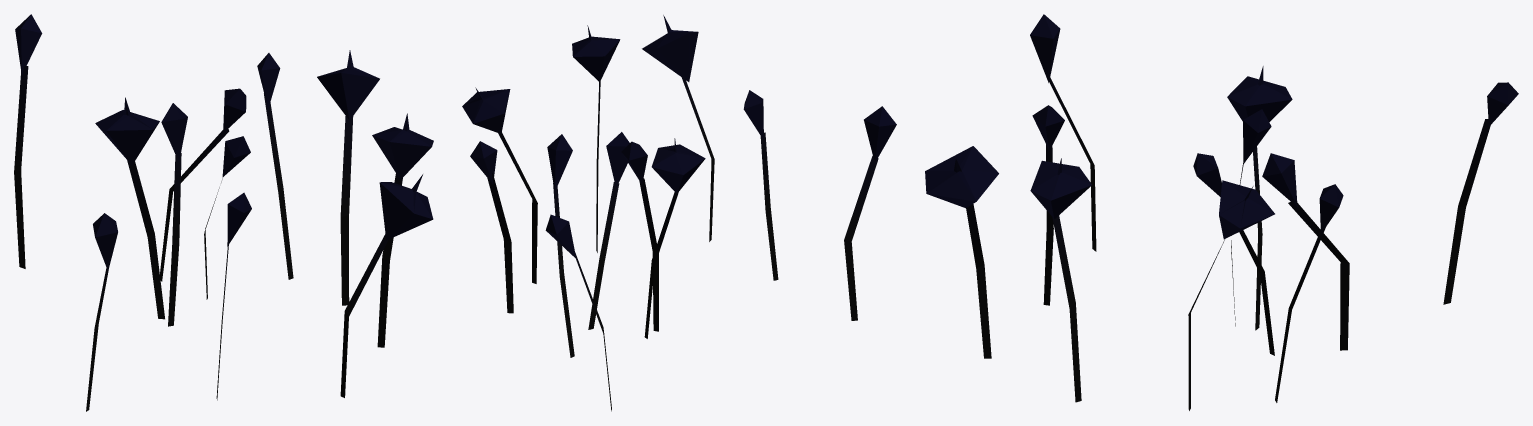
Rendered from PatchTulip02.fbx.
3 renders of one model, left to right at view 1: azimuth 30°, elevation 25°; view 2: azimuth 150°, elevation 25°; view 3: azimuth 270°, elevation 25°, orthographic. The views are drawn at different scales.
Visible parts, largest first — view 1: PatchTulip02; view 2: PatchTulip02; view 3: PatchTulip02.
Part boxes in pixels (box(x1,y1,x2,y2)): PatchTulip02: box(14, 14, 433, 411); PatchTulip02: box(462, 15, 896, 411); PatchTulip02: box(925, 14, 1518, 410).
Size of the model in its own units: 70.63 by 42.52 by 89.81.
